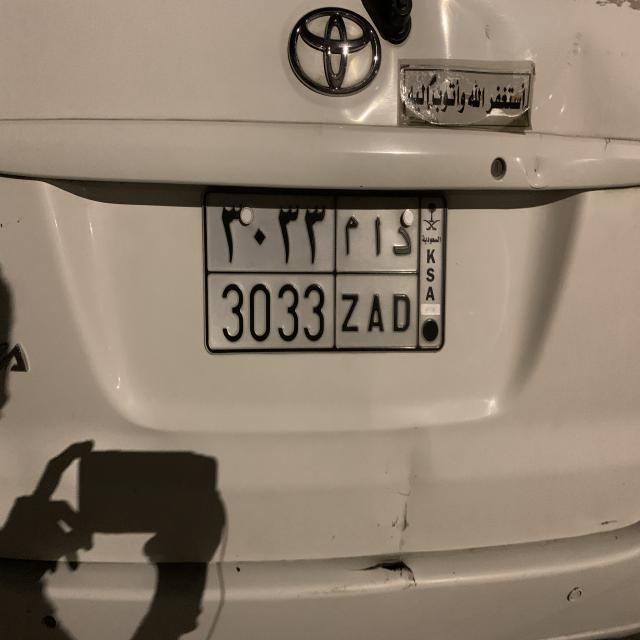license_plate: (199, 180, 452, 360)
